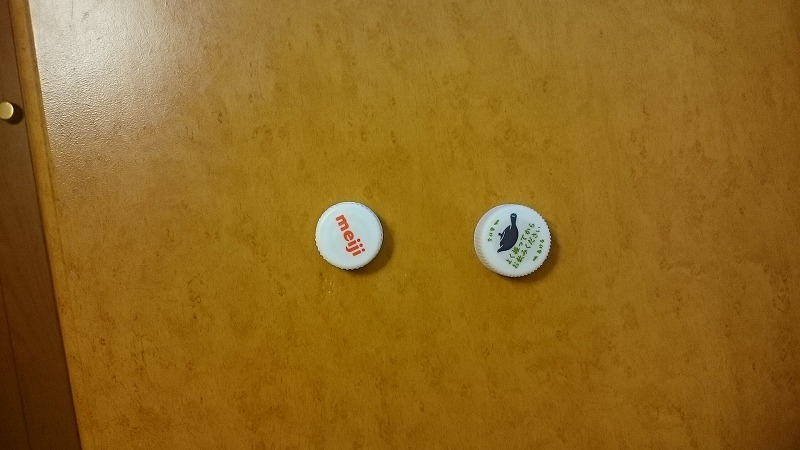A: (469, 200, 556, 282)
B: (310, 197, 391, 273)
